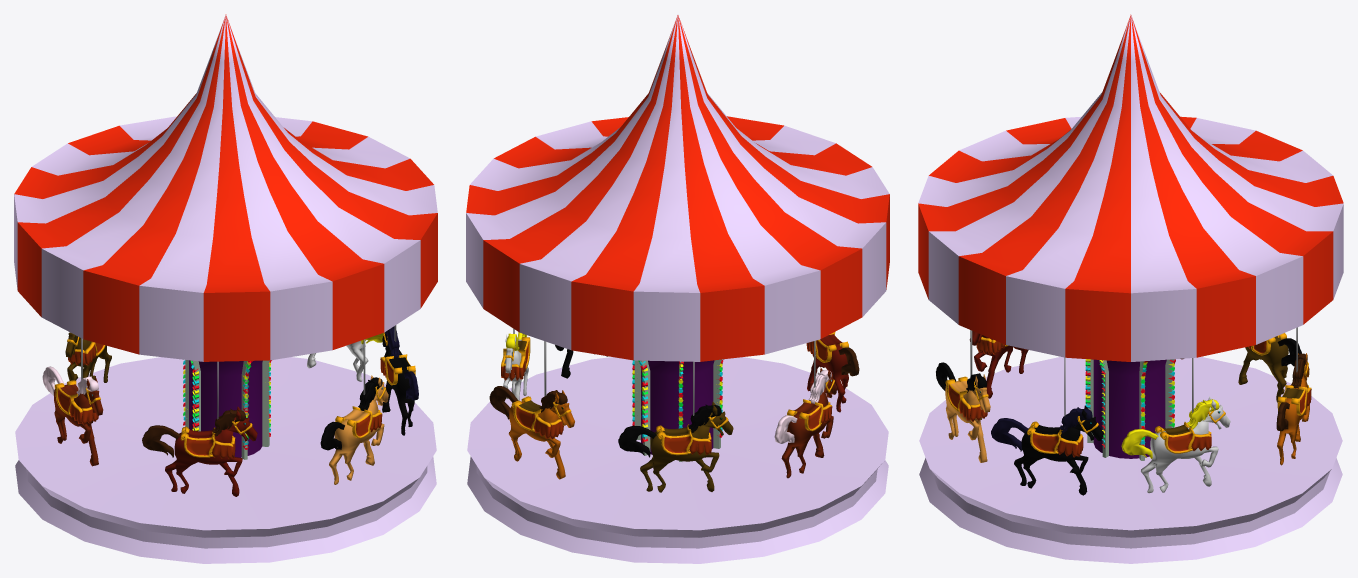
Rendered from Carrossel.fbx.
3 views of the same model, side by side, from view 1: azimuth 30°, elevation 25°; view 2: azimuth 150°, elevation 25°; view 3: azimuth 270°, elevation 25° (orthographic).
Visible parts, largest first — view 1: Carrossel, CavaloVermelhoVinho, CavaloSpirit, CavaloVermelhoEscuro, CavaloPreto, CavaloMarromEscuro, LuzesDeCarrossel, CavaloBranco; view 2: Carrossel, CavaloMarromEscuro, CavaloMarrom, CavaloVermelhoEscuro, CavaloVermelhoVinho, CavaloBranco, LuzesDeCarrossel; view 3: Carrossel, CavaloPreto, CavaloBranco, CavaloSpirit, CavaloMarrom, CavaloMarromEscuro, CavaloVermelhoVinho, LuzesDeCarrossel.
Part boxes in pixels (box(x1,y1,x2,y2)): Carrossel: box(14, 14, 437, 563); CavaloVermelhoVinho: box(142, 361, 257, 496); CavaloSpirit: box(320, 339, 388, 484); CavaloVermelhoEscuro: box(42, 338, 103, 466); CavaloPreto: box(380, 325, 418, 435); CavaloMarromEscuro: box(65, 332, 111, 382); LuzesDeCarrossel: box(183, 360, 271, 449); CavaloBranco: box(307, 333, 383, 381); Carrossel: box(466, 14, 889, 563); CavaloMarromEscuro: box(618, 361, 733, 492); CavaloMarrom: box(489, 341, 574, 479); CavaloVermelhoEscuro: box(774, 340, 837, 478); CavaloVermelhoVinho: box(806, 332, 859, 412); CavaloBranco: box(501, 329, 530, 400); LuzesDeCarrossel: box(632, 359, 723, 442); Carrossel: box(918, 14, 1343, 563); CavaloPreto: box(991, 357, 1103, 495); CavaloBranco: box(1121, 358, 1230, 493); CavaloSpirit: box(936, 330, 990, 462); CavaloMarrom: box(1276, 327, 1311, 465); CavaloMarromEscuro: box(1238, 333, 1301, 402); CavaloVermelhoVinho: box(969, 331, 1028, 398); LuzesDeCarrossel: box(1085, 359, 1175, 448).
Size of the model in its own units: 676 by 807 by 676.
1 material, 1 textured.
